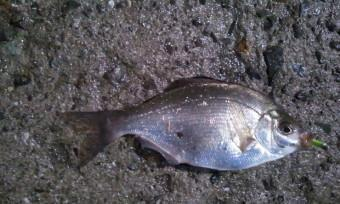fish: (64, 78, 311, 172)
